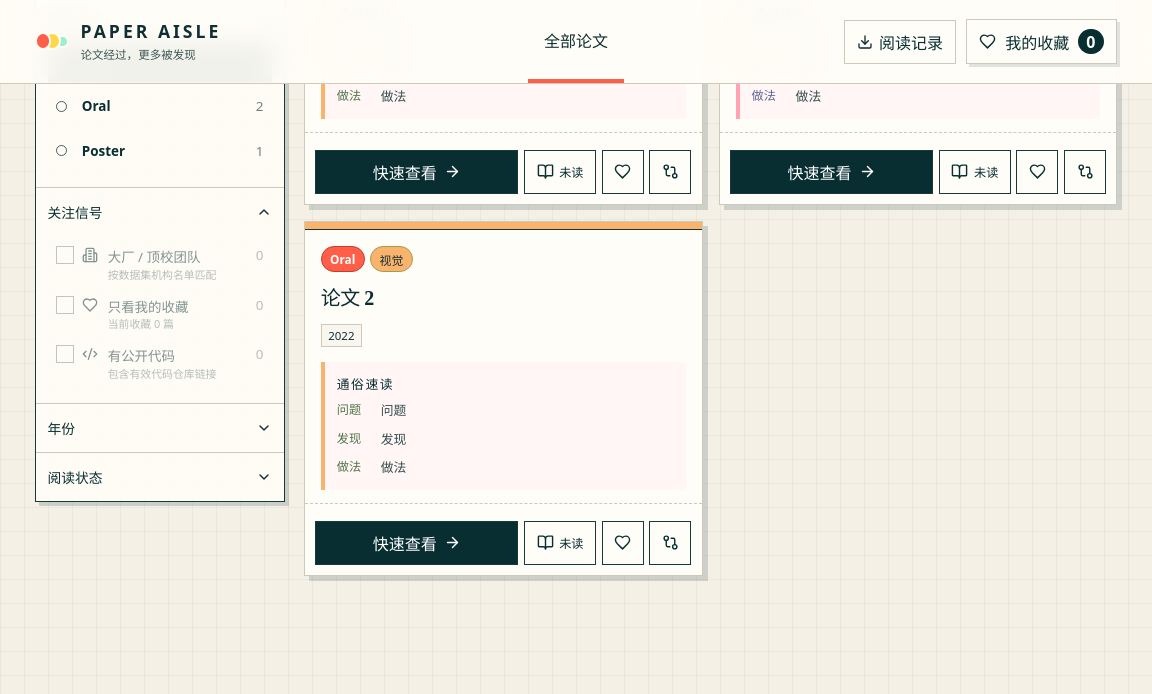
Test: Paper Aisle app › keeps supplementary filters collapsed and applies a selected year
The image size is (1152, 694).
(page scrolled)
expect the checkbox labelled "2024 1" is not shown: met
Click the button with aria-label "展开年份" at (160, 428), box x1=36 y1=404 x2=284 y2=452
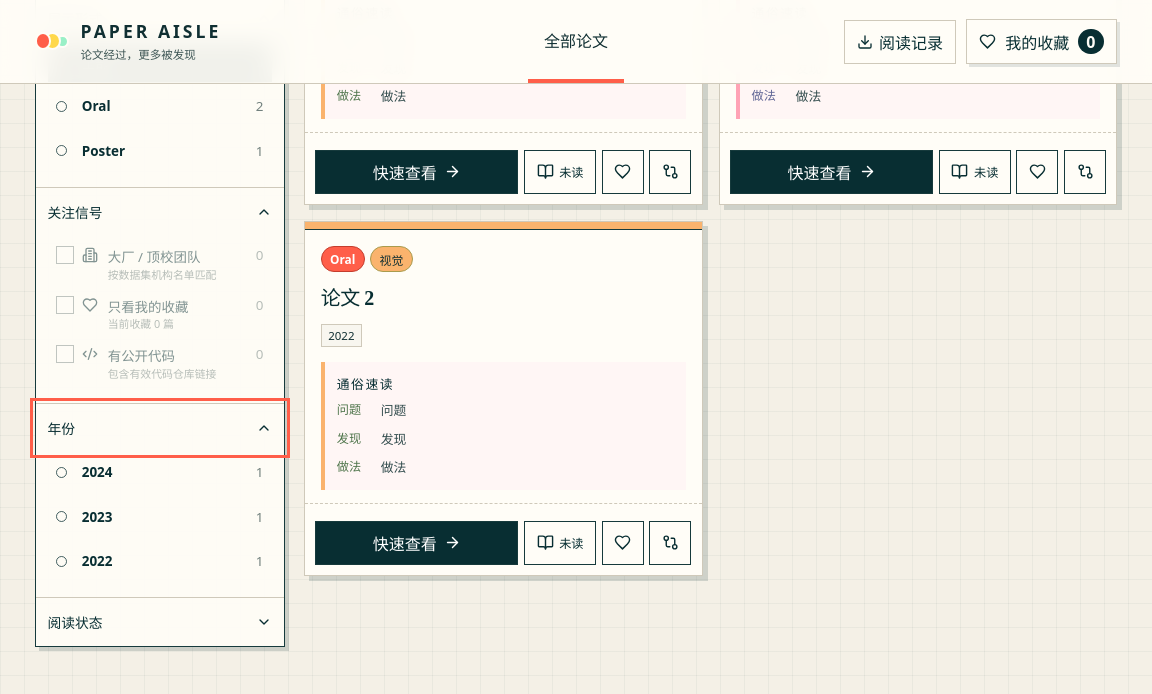
Click the checkbox labelled "2024 1" at (97, 472), box x1=82 y1=463 x2=263 y2=481
(page scrolled)
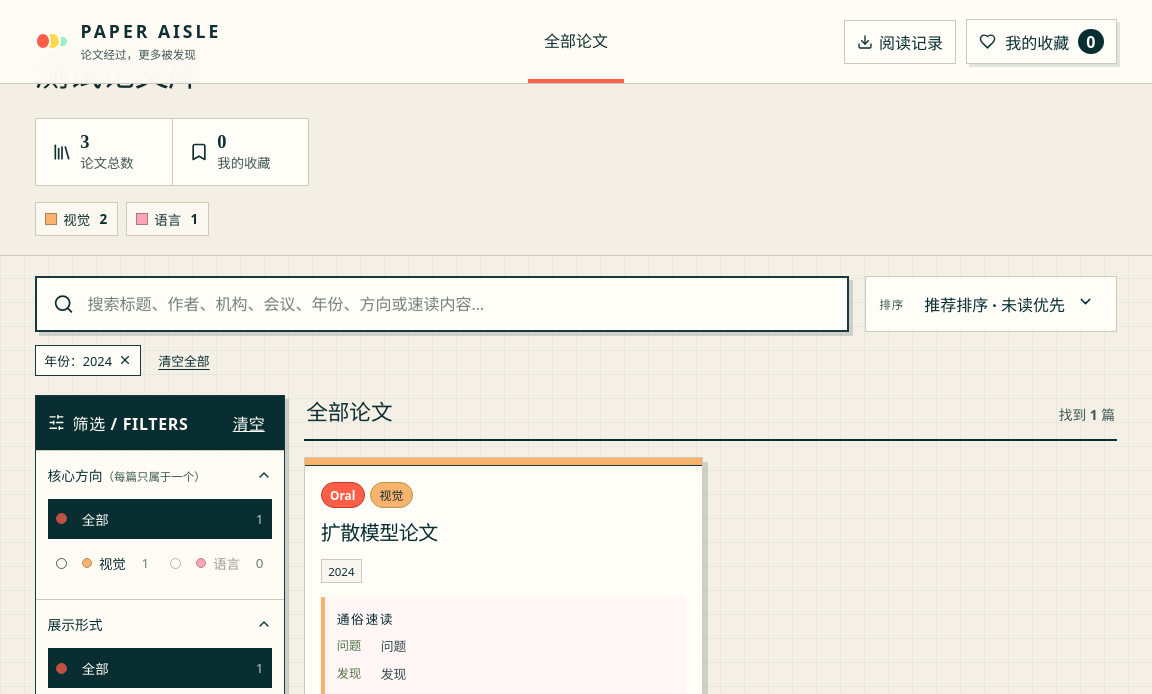
expect the button "年份：2024" is shown: met, box x1=34 y1=345 x2=141 y2=376
